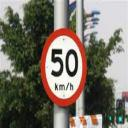speed_limit_50: (40, 26, 87, 106)
